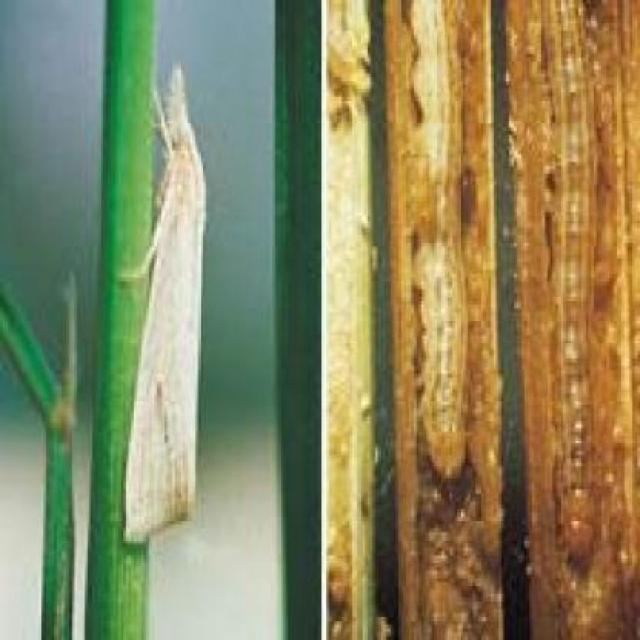stem-borer: (118, 61, 212, 548)
